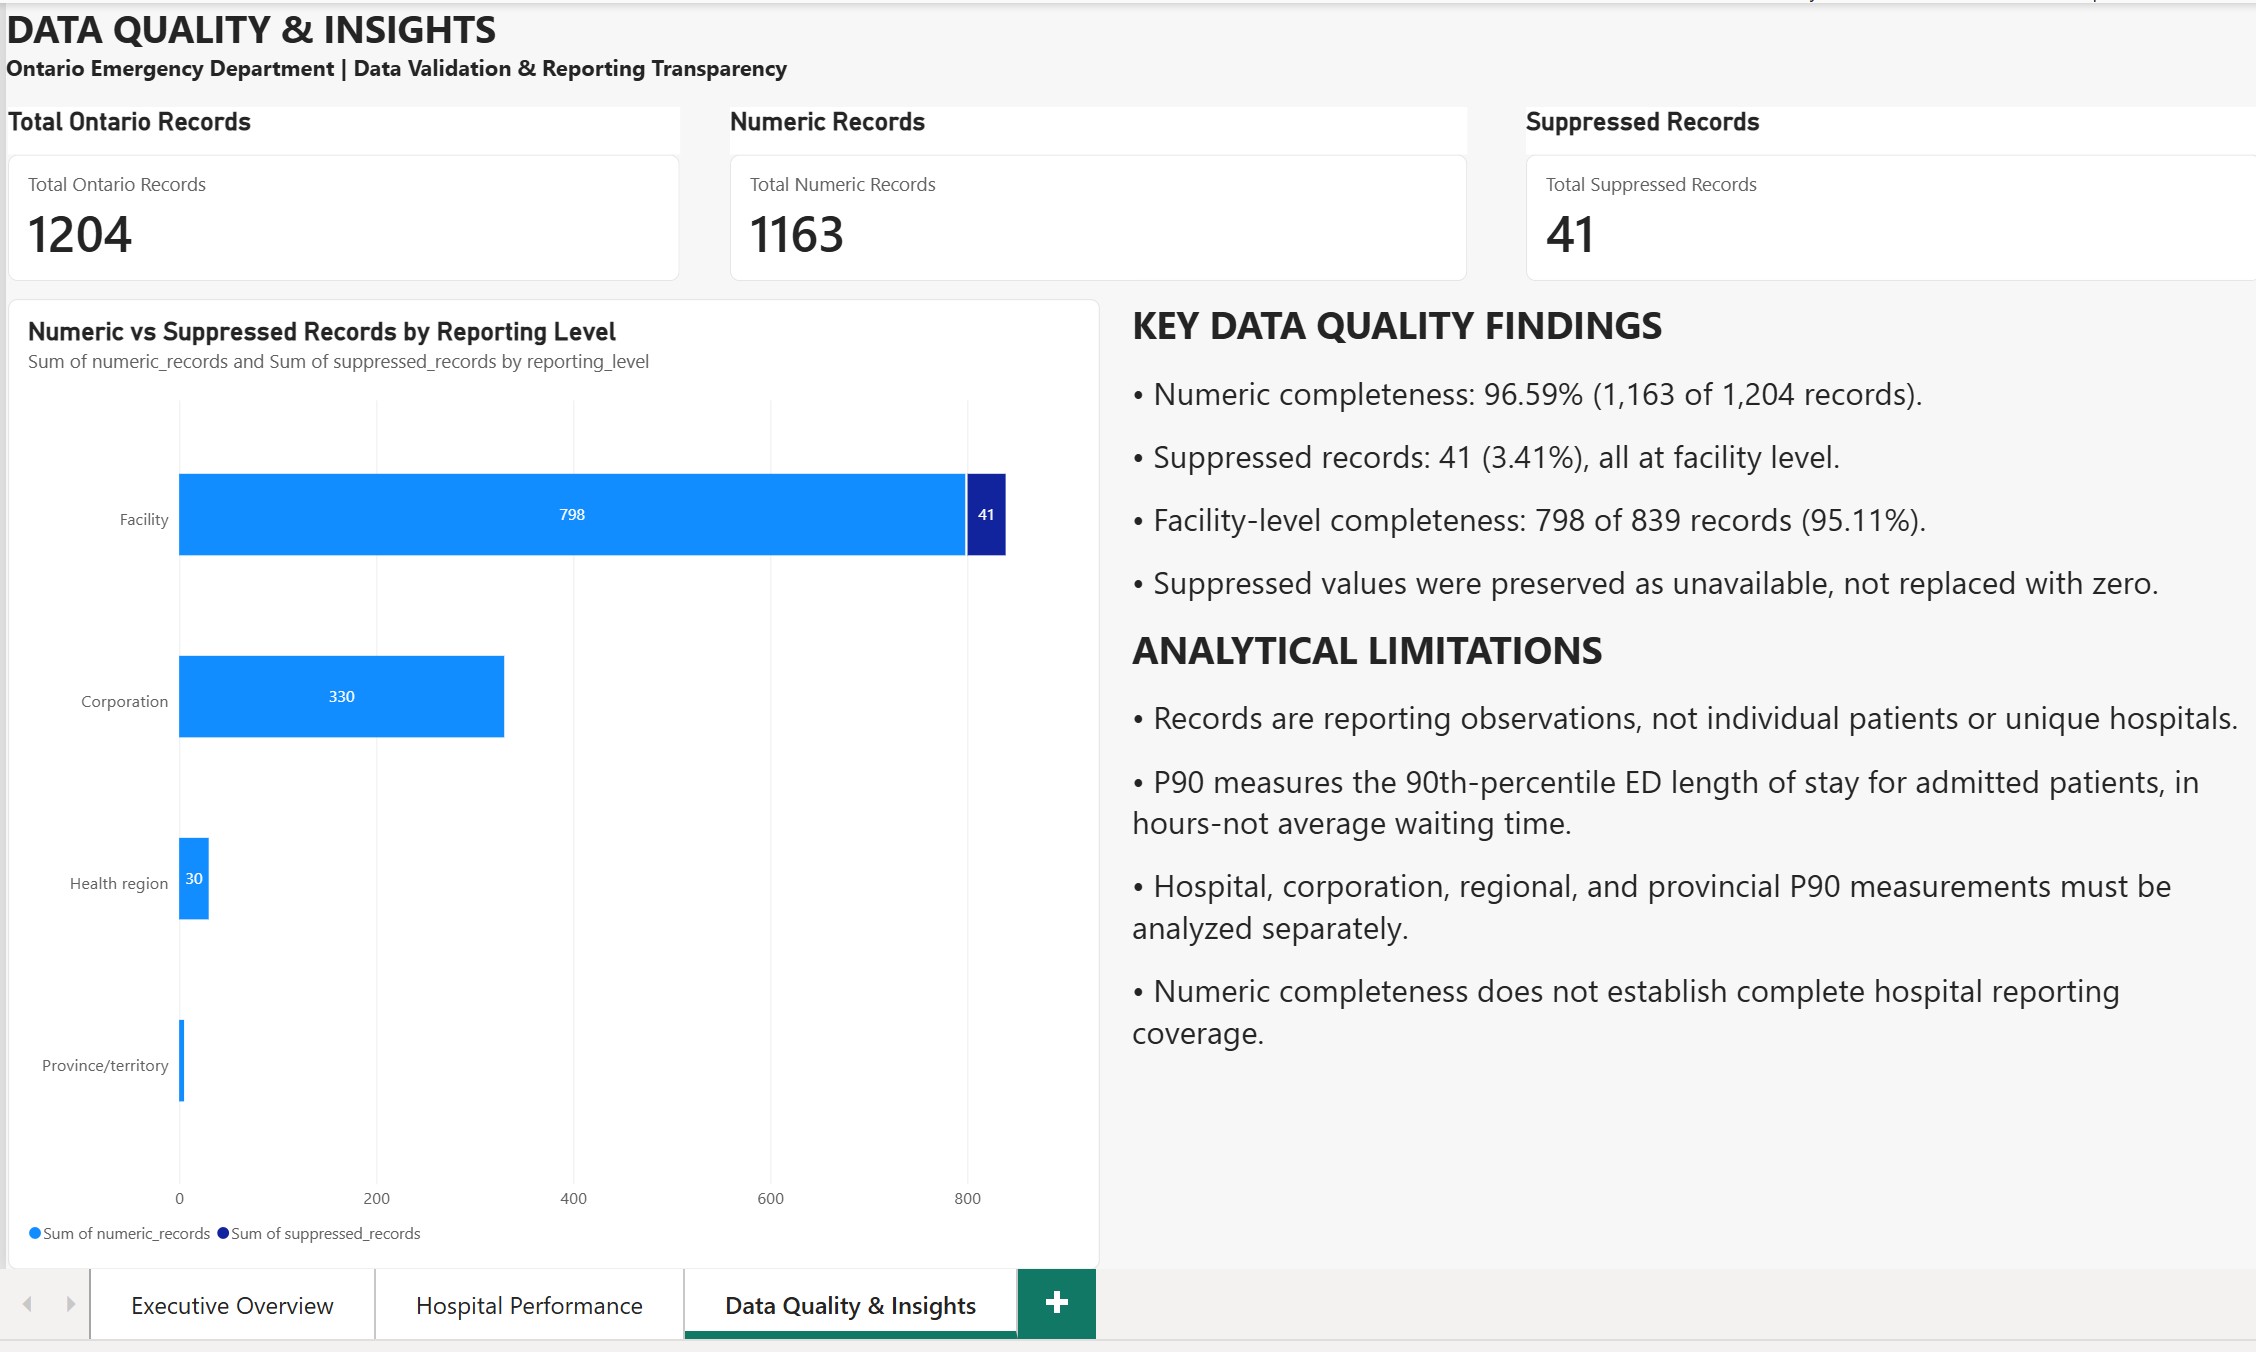

Layout of this report page (visuals, bound fields, positions):
{"tool":"powerbi","page":{"name":"Data Quality & Insights","canvas":[1920,1080],"ordinal":2},"visuals":[{"type":"textbox","box":[0,0,1919.4,88.7],"z":0},{"type":"cardVisual","title":"Total Ontario Records","fields":{"Data":["data_quality_by_level_year.Total Ontario Records"]},"box":[1.9,88,573.7,149.2],"z":1},{"type":"cardVisual","title":"Numeric Records","fields":{"Data":["data_quality_by_level_year.Total Numeric Records"]},"box":[617.7,88,629.2,149.2],"z":2},{"type":"cardVisual","title":"Suppressed Records","fields":{"Data":["data_quality_by_level_year.Total Suppressed Records"]},"box":[1296.6,88,627.3,149.2],"z":3},{"type":"barChart","title":"Numeric vs Suppressed Records by Reporting Level","fields":{"Category":["data_quality_by_level_year.reporting_level"],"Y":["Sum(data_quality_by_level_year.numeric_records)","Sum(data_quality_by_level_year.suppressed_records)"]},"box":[1.9,252.4,931.3,828],"z":4},{"type":"textbox","box":[960,252.4,960,828],"z":5}]}

Visuals, with their boxes on the page's 1920x1080 design canvas (x1, y1, x2, y2). These are canvas units, not pixel positions in the 2256x1352 screenshot, which may show the page scaled, cropped or inside an application window:
textbox: <region>0, 0, 1919, 89</region>
"Total Ontario Records" cardVisual: <region>2, 88, 576, 237</region>
"Numeric Records" cardVisual: <region>618, 88, 1247, 237</region>
"Suppressed Records" cardVisual: <region>1297, 88, 1924, 237</region>
"Numeric vs Suppressed Records by Reporting Level" barChart: <region>2, 252, 933, 1080</region>
textbox: <region>960, 252, 1920, 1080</region>
